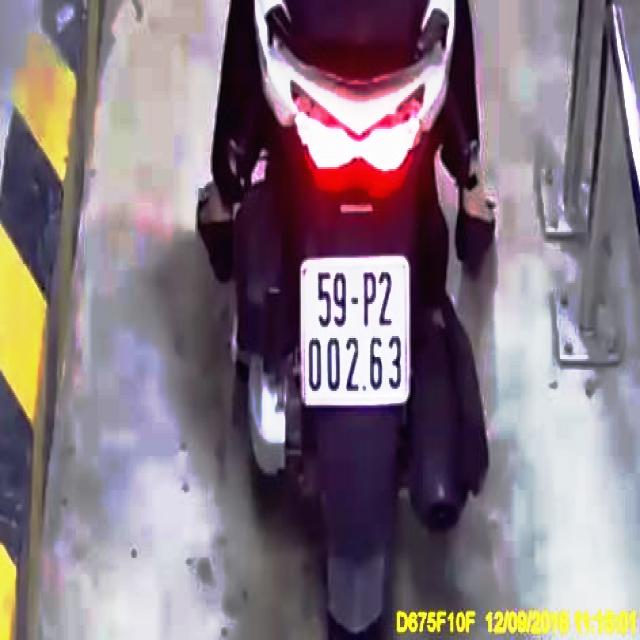license_plate: (304, 261, 409, 404)
